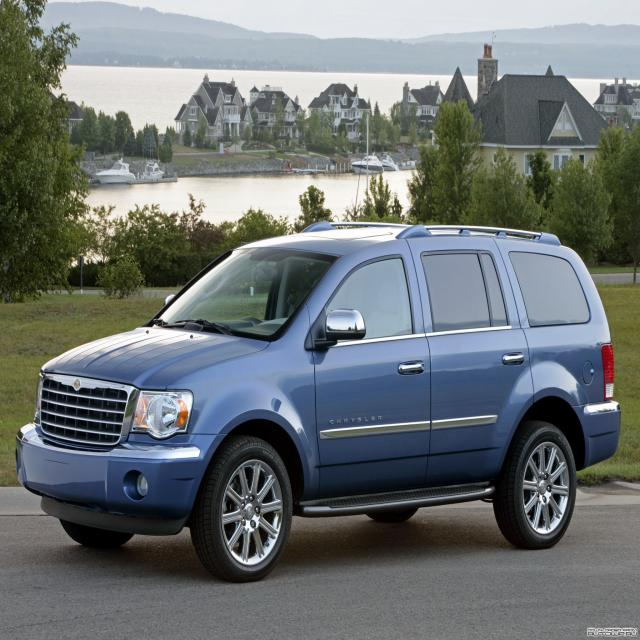car: (17, 201, 632, 583)
